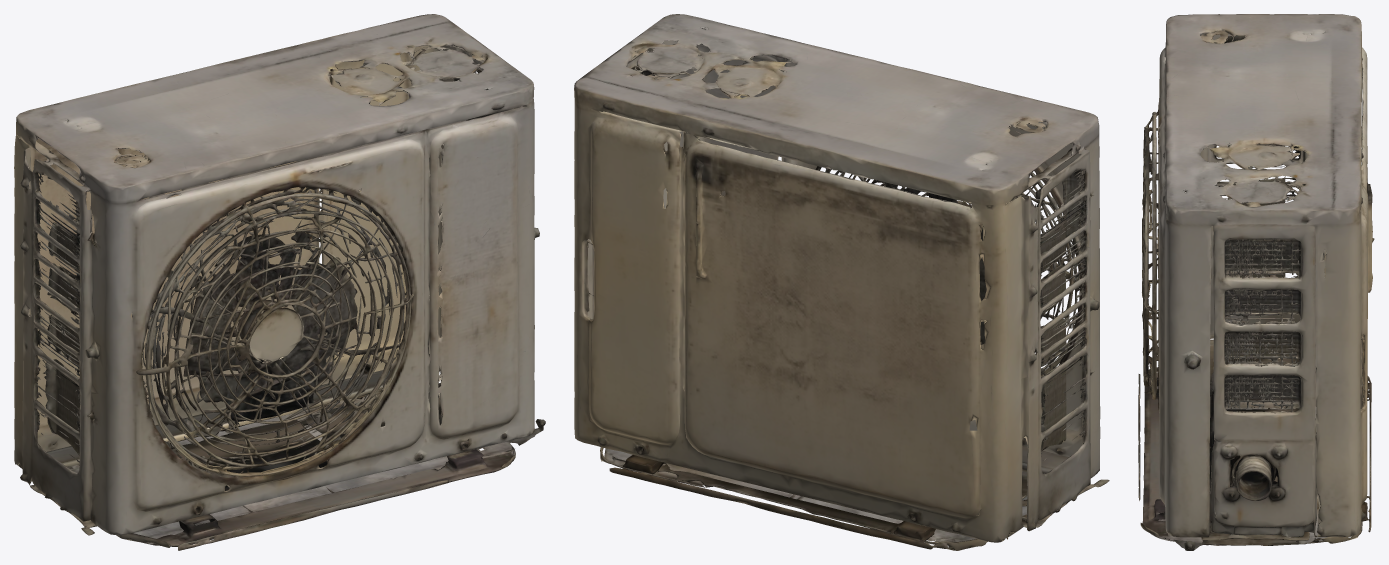
The picture shows the model from 3 angles, left to right: view 1: azimuth 30°, elevation 25°; view 2: azimuth 150°, elevation 25°; view 3: azimuth 270°, elevation 25°; orthographic projection. The views are drawn at different scales.
Visible parts, largest first — view 1: geometry_0; view 2: geometry_0; view 3: geometry_0.
Boxes of the visible parts, x1,y1,x2,y2 form: geometry_0: (14, 14, 545, 550); geometry_0: (574, 14, 1109, 550); geometry_0: (1138, 14, 1374, 550).
Bounding box in the file's own units: 1 × 0.7372 × 0.4591.
Materials: 1 (1 with a texture image).
